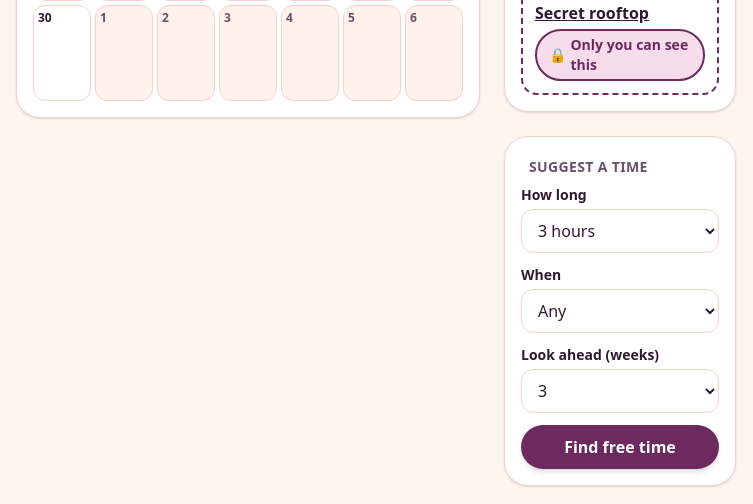
Suggest a time › posts the defaults and renders the slots with Plan this links
(page scrolled)
Click the button "Find free time" at (620, 447), box [521,425,719,469]
(page scrolled)
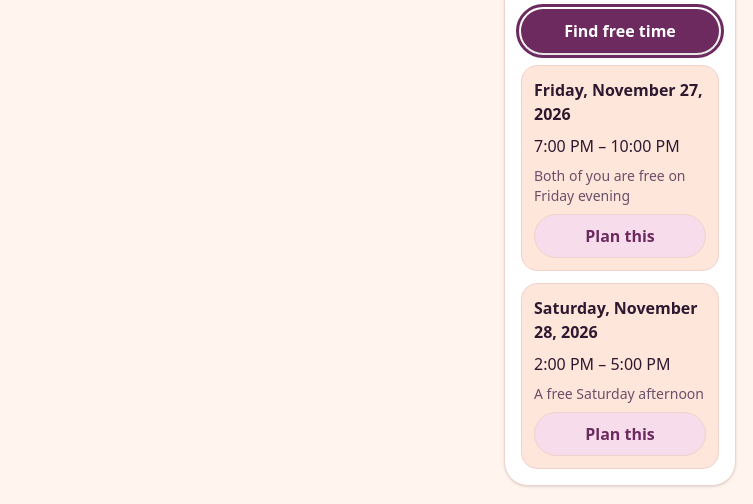
Check: the text "Both of you are free on Friday evening" is shown, box [534,166,706,206]
